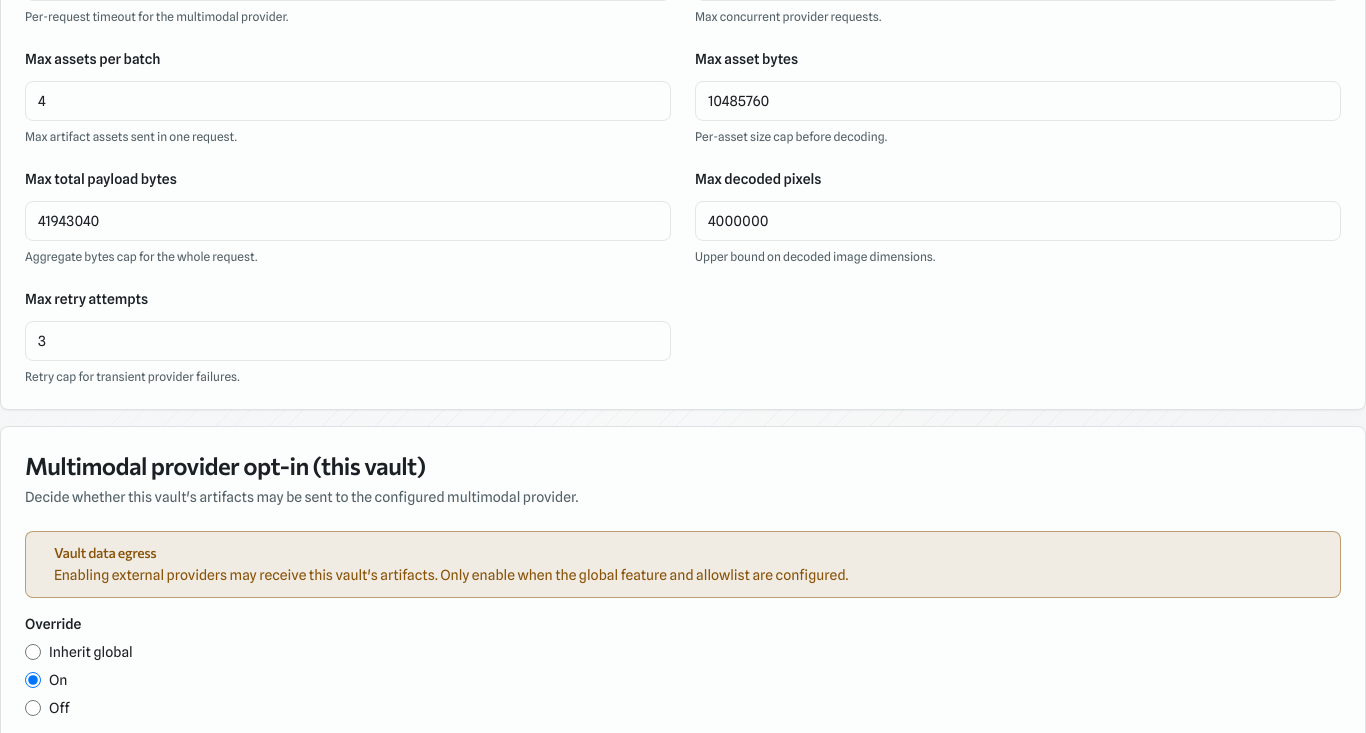
ModelsTab issue #774 read outcomes › ignores a late same-context Retry result after a successful toggle and follow-up read
This screenshot has width=1366, height=733.
(page scrolled)
Check: the radio button labelled "On" is checked, box [25,672,41,688]
Click the radio button labelled "Off".
click(33, 708)  # box [25,700,41,716]
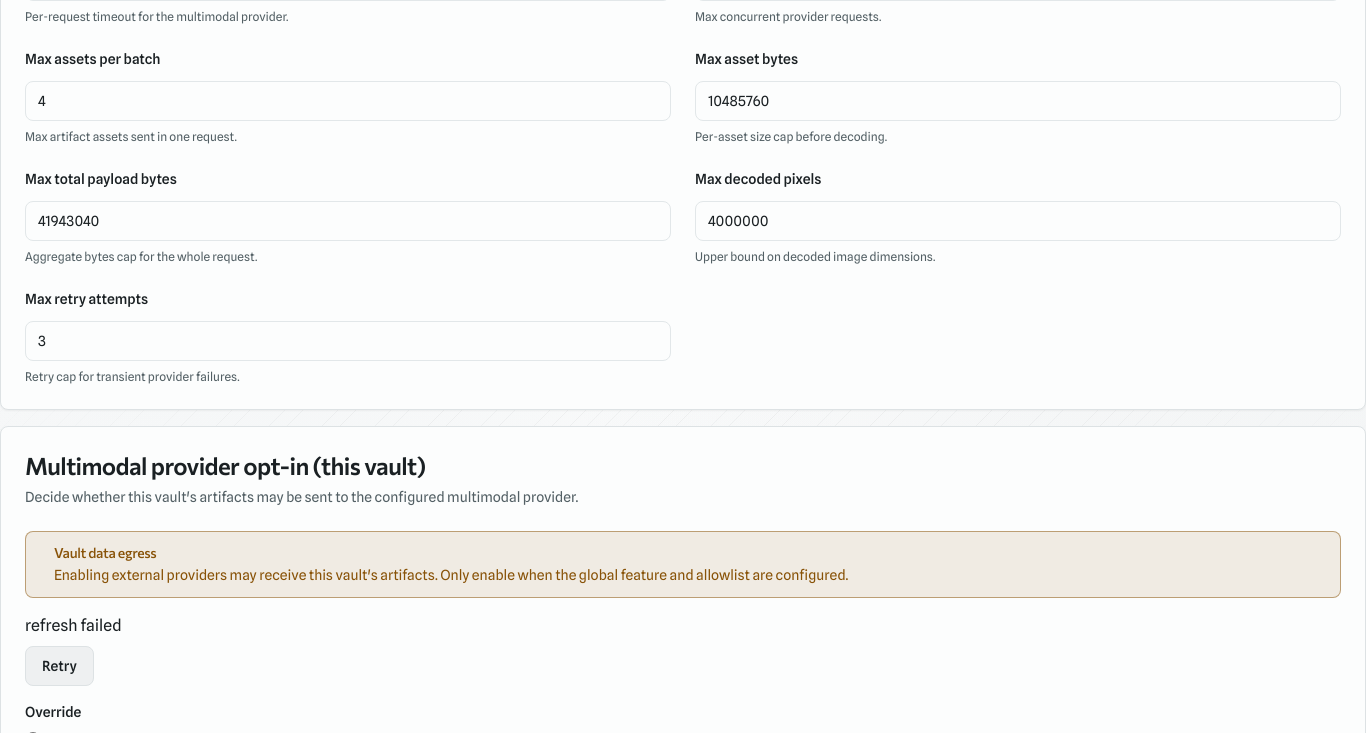
Check: the text "refresh failed Retry" is shown, box [25,616,122,686]
Click the button "Retry".
click(59, 666)  # box [25,646,94,686]
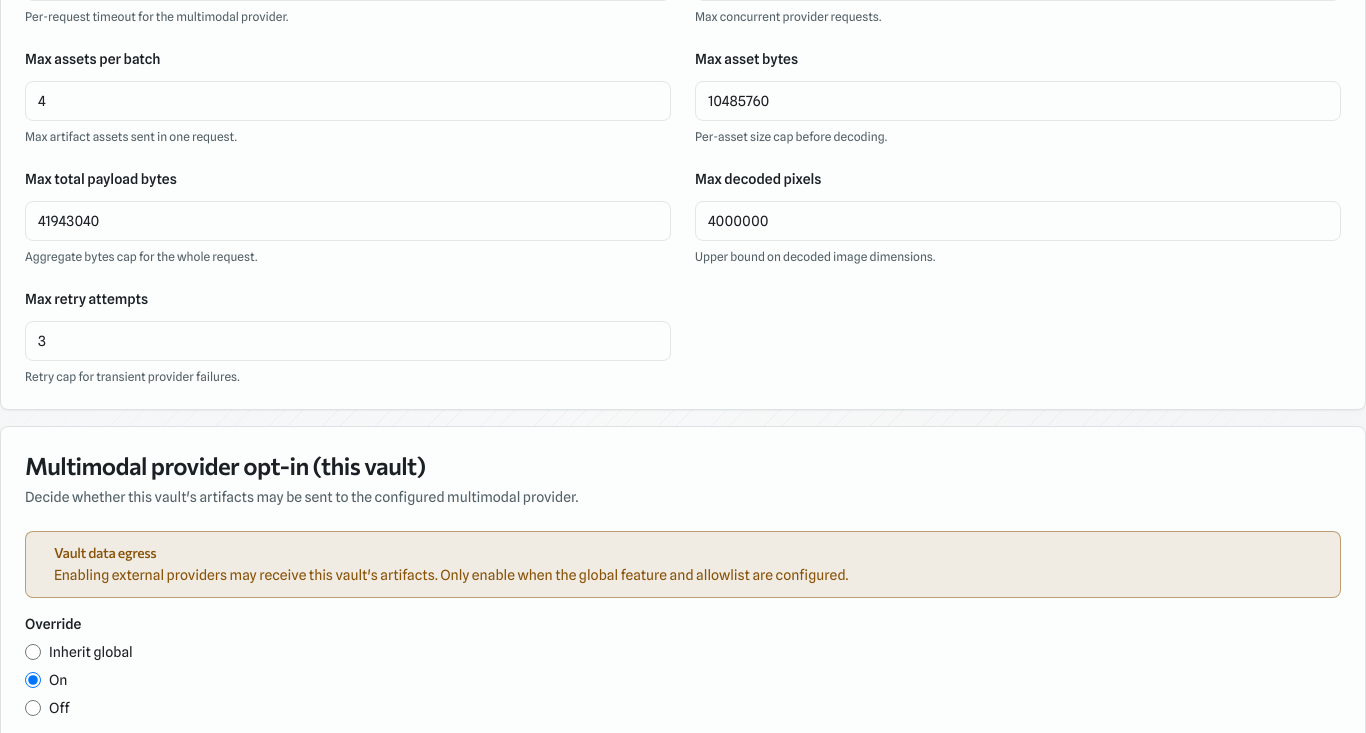
Click the radio button labelled "Off".
click(33, 708)  # box [25,700,41,716]
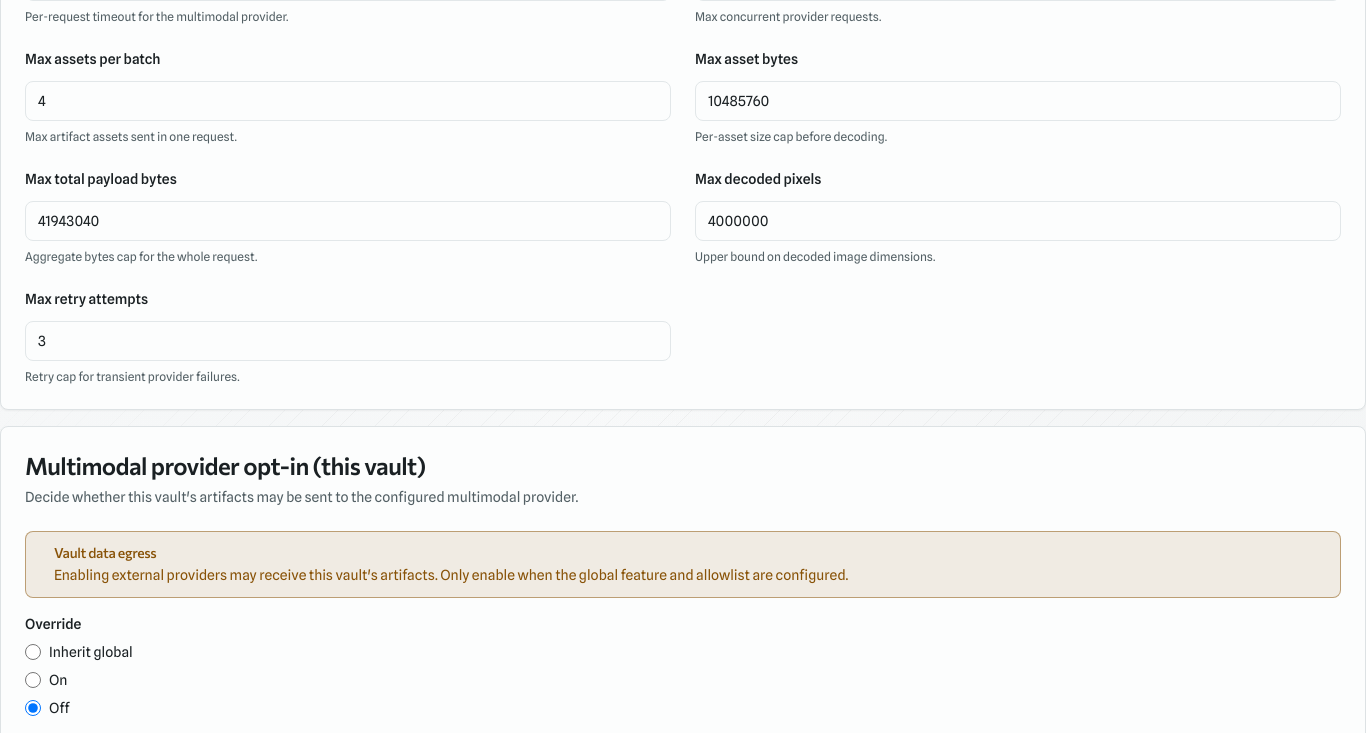
Check: the radio button labelled "Off" is checked, box [25,700,41,716]
Check: the radio button labelled "On" is not checked, box [25,672,41,688]
